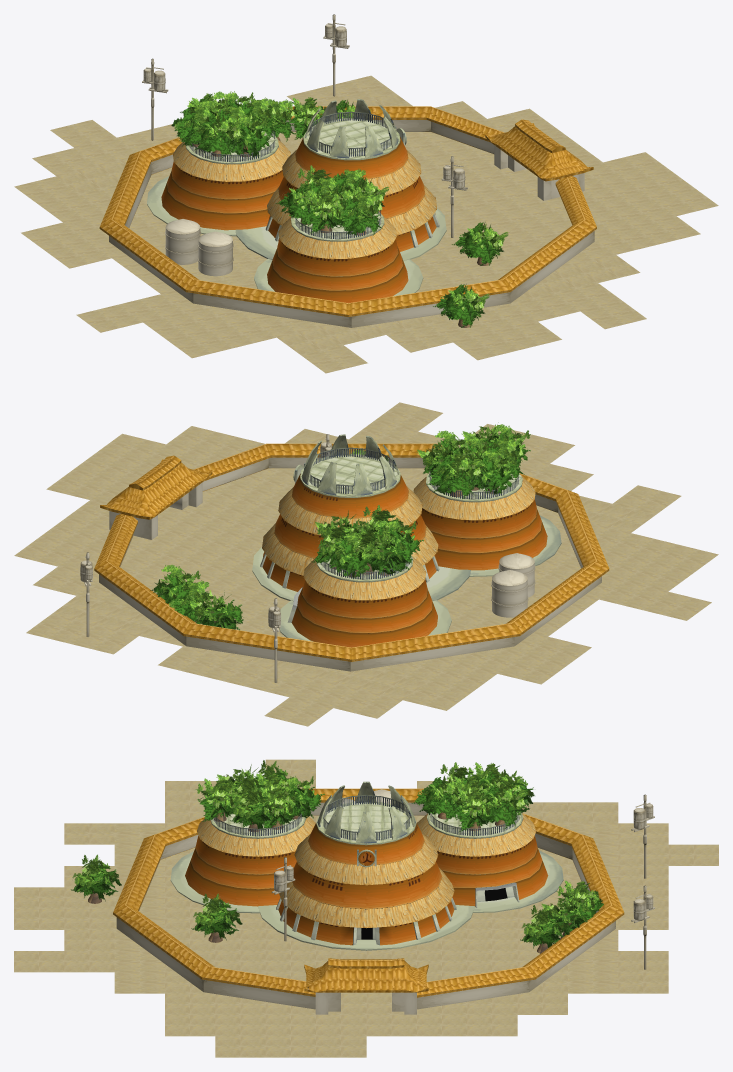
Rendered from hokage_office.glb.
3 renders of one model, top to bottom at view 1: azimuth 30°, elevation 25°; view 2: azimuth 150°, elevation 25°; view 3: azimuth 270°, elevation 25°, orthographic. The views are drawn at different scales.
Visible parts, largest first — view 1: polySurface162, Office, Wall, polySurface459, polySurface158, Silo1, Silo, polySurface465, polySurface464, polySurface318, polySurface324, polySurface325 (+5 smaller); view 2: polySurface162, Office, Wall, polySurface459, polySurface158, polySurface323, Silo, polySurface463, polySurface325, polySurface462, polySurface461, Silo1 (+5 smaller); view 3: polySurface162, Office, Wall, polySurface459, polySurface158, polySurface464, polySurface465, polySurface461, polySurface318, polySurface320, polySurface321, polySurface323 (+6 smaller).
Boxes of the visible parts, x1=… form: polySurface162: x1=14, y1=75, x2=718, y2=373; Office: x1=147, y1=99, x2=446, y2=302; Wall: x1=99, y1=106, x2=596, y2=327; polySurface459: x1=171, y1=91, x2=278, y2=158; polySurface158: x1=485, y1=119, x2=593, y2=200; Silo1: x1=197, y1=231, x2=233, y2=276; Silo: x1=165, y1=219, x2=200, y2=264; polySurface465: x1=433, y1=284, x2=489, y2=327; polySurface464: x1=452, y1=222, x2=508, y2=265; polySurface318: x1=337, y1=193, x2=382, y2=235; polySurface324: x1=303, y1=191, x2=344, y2=233; polySurface325: x1=275, y1=183, x2=321, y2=226; polySurface162: x1=14, y1=402, x2=718, y2=726; Office: x1=252, y1=434, x2=561, y2=647; Wall: x1=94, y1=443, x2=609, y2=671; polySurface459: x1=311, y1=505, x2=423, y2=579; polySurface158: x1=100, y1=455, x2=212, y2=539; polySurface323: x1=427, y1=453, x2=482, y2=499; Silo: x1=491, y1=570, x2=528, y2=617; polySurface463: x1=188, y1=592, x2=243, y2=630; polySurface325: x1=471, y1=449, x2=517, y2=496; polySurface462: x1=165, y1=580, x2=212, y2=622; polySurface461: x1=150, y1=564, x2=200, y2=602; Silo1: x1=498, y1=553, x2=535, y2=597; polySurface162: x1=14, y1=759, x2=718, y2=1057; Office: x1=170, y1=781, x2=563, y2=950; Wall: x1=113, y1=788, x2=624, y2=1009; polySurface459: x1=411, y1=762, x2=534, y2=831; polySurface158: x1=304, y1=958, x2=428, y2=1014; polySurface464: x1=191, y1=893, x2=242, y2=942; polySurface465: x1=71, y1=854, x2=121, y2=903; polySurface461: x1=520, y1=905, x2=569, y2=953; polySurface318: x1=195, y1=778, x2=241, y2=821; polySurface320: x1=230, y1=785, x2=280, y2=832; polySurface321: x1=255, y1=786, x2=303, y2=830; polySurface323: x1=273, y1=776, x2=324, y2=819.
Size of the model in its own units: 14 by 2.54 by 14.
8 materials, 8 textured.
